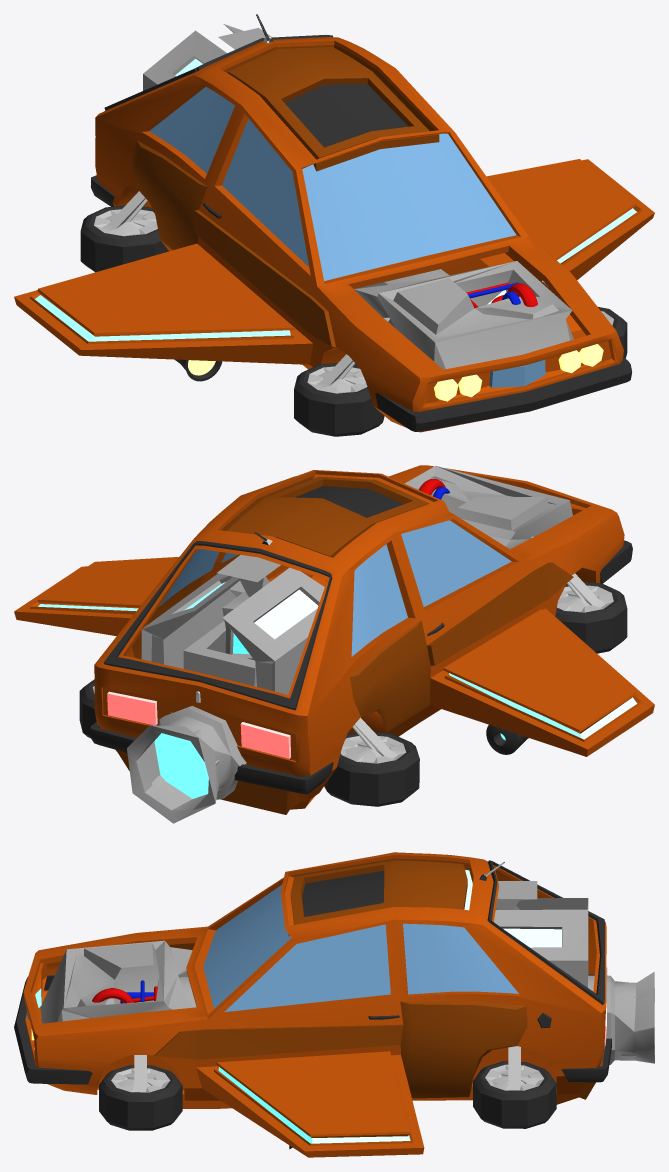
The model's file is flying_car.glb.
3 renders of one model, top to bottom at view 1: azimuth 30°, elevation 25°; view 2: azimuth 150°, elevation 25°; view 3: azimuth 270°, elevation 25°, orthographic. The views are drawn at different scales.
Visible parts, largest first — view 1: Плоскость.011; view 2: Плоскость.011; view 3: Плоскость.011.
Boxes of the visible parts, <box> form: Плоскость.011: <box>14,14,654,436</box>; Плоскость.011: <box>14,465,654,823</box>; Плоскость.011: <box>14,852,654,1157</box>.
Size of the model in its own units: 6 by 2.4 by 6.53.
